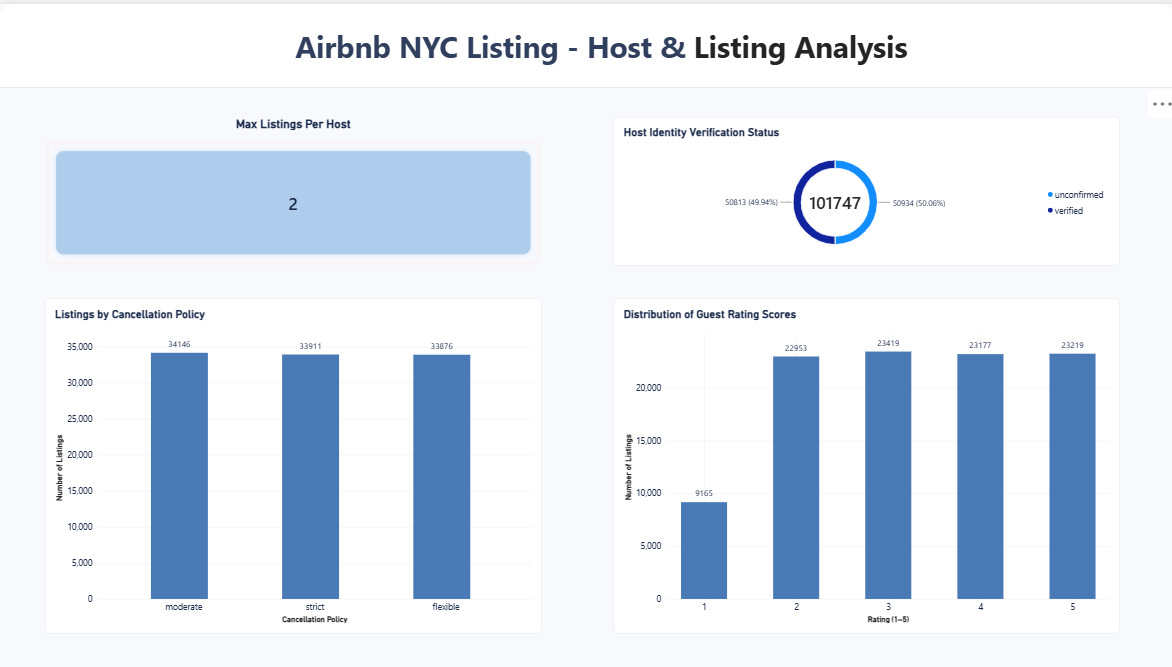

The page's visual inventory and layout, read from the dashboard file:
{"tool":"powerbi","page":{"name":"Host & Listing Analysis","canvas":[1920,1080],"ordinal":2},"visuals":[{"type":"shape","box":[0,0,1920,137.5],"z":0},{"type":"textbox","box":[100,115,300,285],"z":1000},{"type":"textbox","box":[342.5,37.5,1280,100],"z":2000},{"type":"cardVisual","title":"Max Listings Per Host","fields":{"Data":["project_airbnb airbnb_listings.Max Listings Per Host"]},"box":[80,185,807.5,242.5],"z":3000},{"type":"clusteredColumnChart","title":"Listings by Cancellation Policy","fields":{"Category":["project_airbnb airbnb_listings.cancellation_policy"],"Y":["CountNonNull(project_airbnb airbnb_listings.id)"]},"box":[80,480,807.5,545],"z":4000},{"type":"clusteredColumnChart","title":"Distribution of Guest Rating Scores","fields":{"Category":["project_airbnb airbnb_listings.review_rate_number"],"Y":["CountNonNull(project_airbnb airbnb_listings.id)"]},"box":[1002.5,480,822.5,545],"z":5000},{"type":"donutChart","title":"Host Identity Verification Status","fields":{"Category":["project_airbnb airbnb_listings.host_identity_verified"],"Y":["CountNonNull(project_airbnb airbnb_listings.id)"]},"box":[1002.5,185,822.5,242.5],"z":6000}]}

Visuals, with their boxes on the page's 1920x1080 design canvas (x1, y1, x2, y2). These are canvas units, not pixel positions in the 1172x667 screenshot, which may show the page scaled, cropped or inside an application window:
shape: <box>0,0,1920,138</box>
textbox: <box>100,115,400,400</box>
textbox: <box>342,38,1622,138</box>
"Max Listings Per Host" cardVisual: <box>80,185,888,428</box>
"Listings by Cancellation Policy" clusteredColumnChart: <box>80,480,888,1025</box>
"Distribution of Guest Rating Scores" clusteredColumnChart: <box>1002,480,1825,1025</box>
"Host Identity Verification Status" donutChart: <box>1002,185,1825,428</box>
